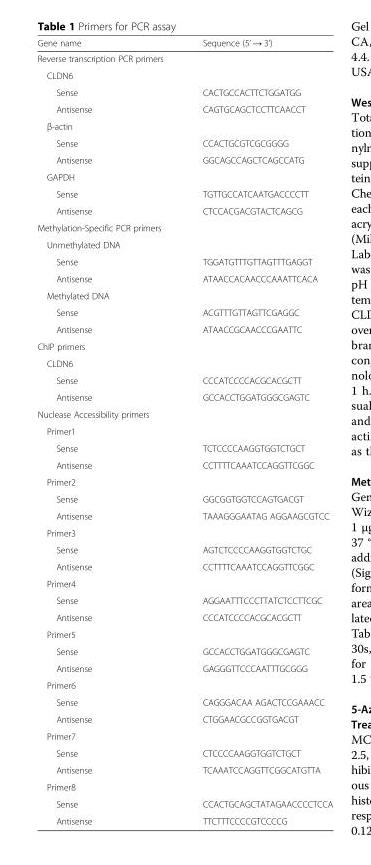table: (36, 36, 332, 825)
table column: (182, 36, 332, 825), (36, 36, 182, 825)
table column header: (36, 36, 332, 50)
table projected row header: (36, 116, 332, 134), (36, 66, 332, 83), (36, 168, 332, 185), (36, 235, 332, 252), (36, 286, 332, 303), (36, 337, 332, 354), (36, 354, 332, 371), (36, 405, 332, 422), (36, 422, 332, 439), (36, 473, 332, 490), (36, 574, 332, 591), (36, 625, 332, 642), (36, 676, 332, 693), (36, 727, 332, 744), (36, 778, 332, 795), (36, 50, 332, 66), (36, 219, 332, 235), (36, 524, 332, 540)
table row: (36, 116, 332, 134), (36, 66, 332, 83), (36, 83, 332, 100), (36, 134, 332, 151), (36, 151, 332, 168), (36, 168, 332, 185), (36, 185, 332, 202), (36, 202, 332, 219), (36, 235, 332, 252), (36, 252, 332, 269), (36, 269, 332, 286), (36, 286, 332, 303), (36, 303, 332, 320), (36, 320, 332, 337), (36, 337, 332, 354), (36, 354, 332, 371), (36, 371, 332, 388), (36, 388, 332, 405), (36, 405, 332, 422), (36, 422, 332, 439), (36, 439, 332, 456), (36, 456, 332, 473), (36, 473, 332, 490), (36, 490, 332, 507), (36, 507, 332, 524), (36, 540, 332, 557), (36, 557, 332, 574), (36, 574, 332, 591), (36, 591, 332, 608), (36, 608, 332, 625), (36, 625, 332, 642), (36, 642, 332, 659), (36, 659, 332, 676), (36, 676, 332, 693), (36, 693, 332, 710), (36, 710, 332, 727), (36, 727, 332, 744), (36, 744, 332, 761), (36, 761, 332, 778), (36, 778, 332, 795), (36, 795, 332, 812), (36, 50, 332, 66), (36, 100, 332, 116), (36, 219, 332, 235), (36, 524, 332, 540), (36, 36, 332, 50), (36, 812, 332, 825)
